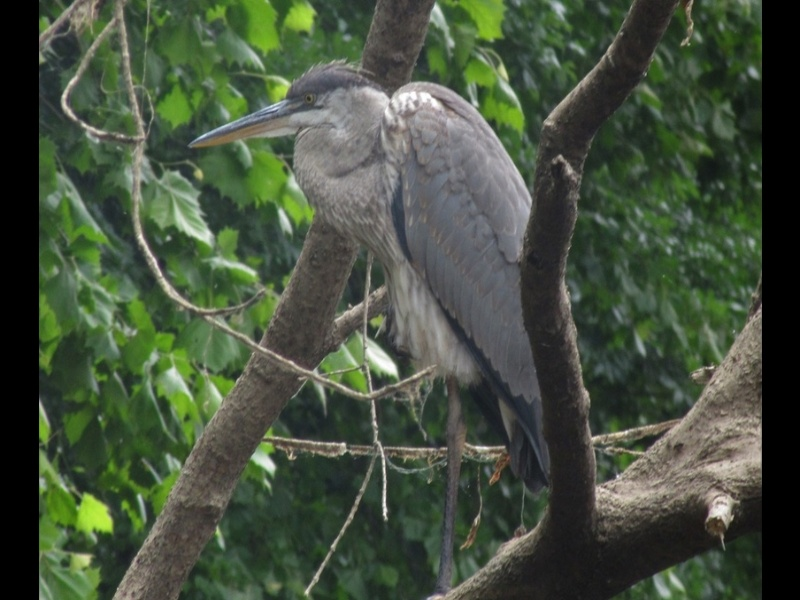heron: (183, 59, 570, 553)
